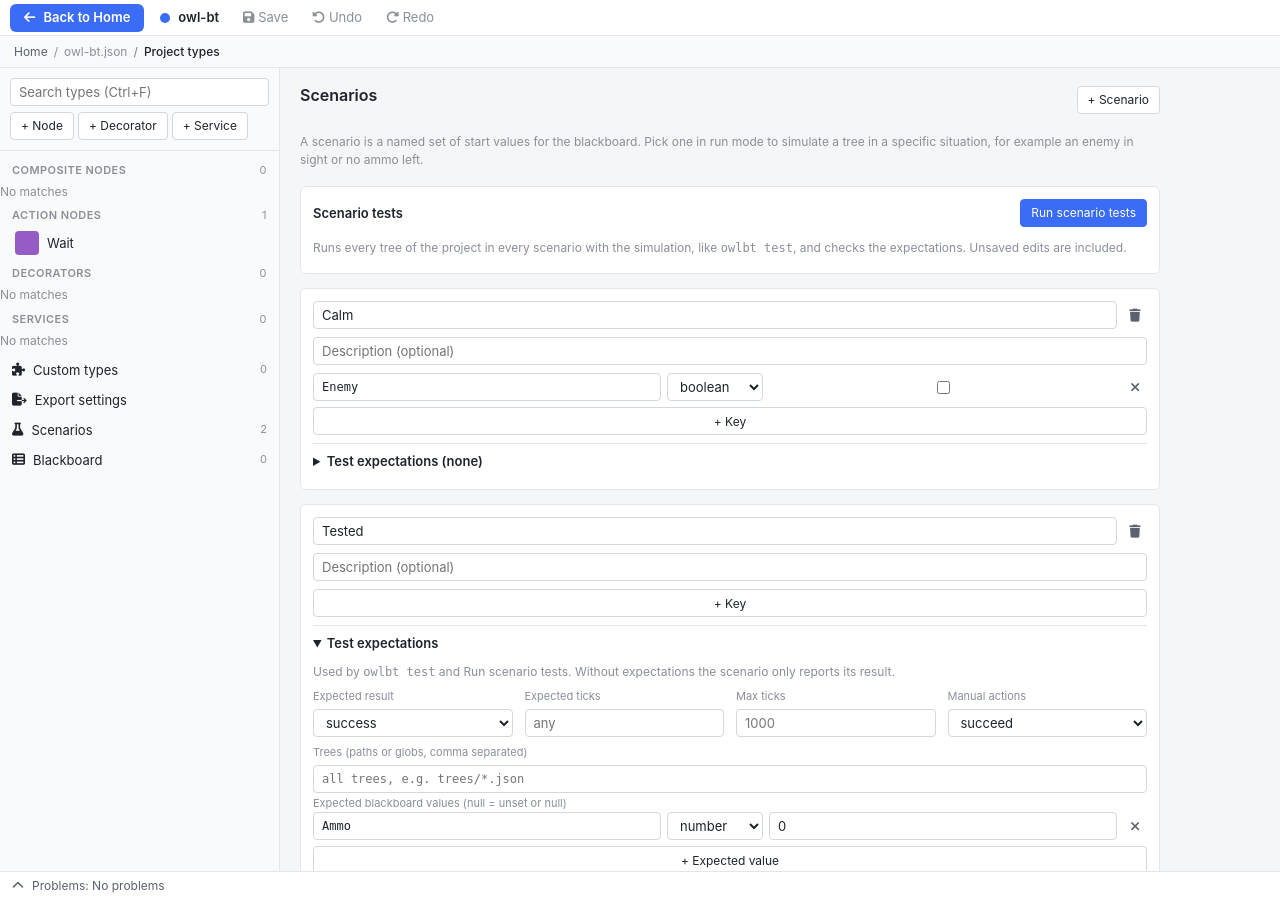
Test: ScenariosView test expectations › runs the scenario tests with the draft and shows the results
Expected: the element named "Project types" is shown, [0, 68, 280, 871]
Step 1. Click the button "Run scenario tests" → (1084, 213), box [1020, 199, 1147, 227]
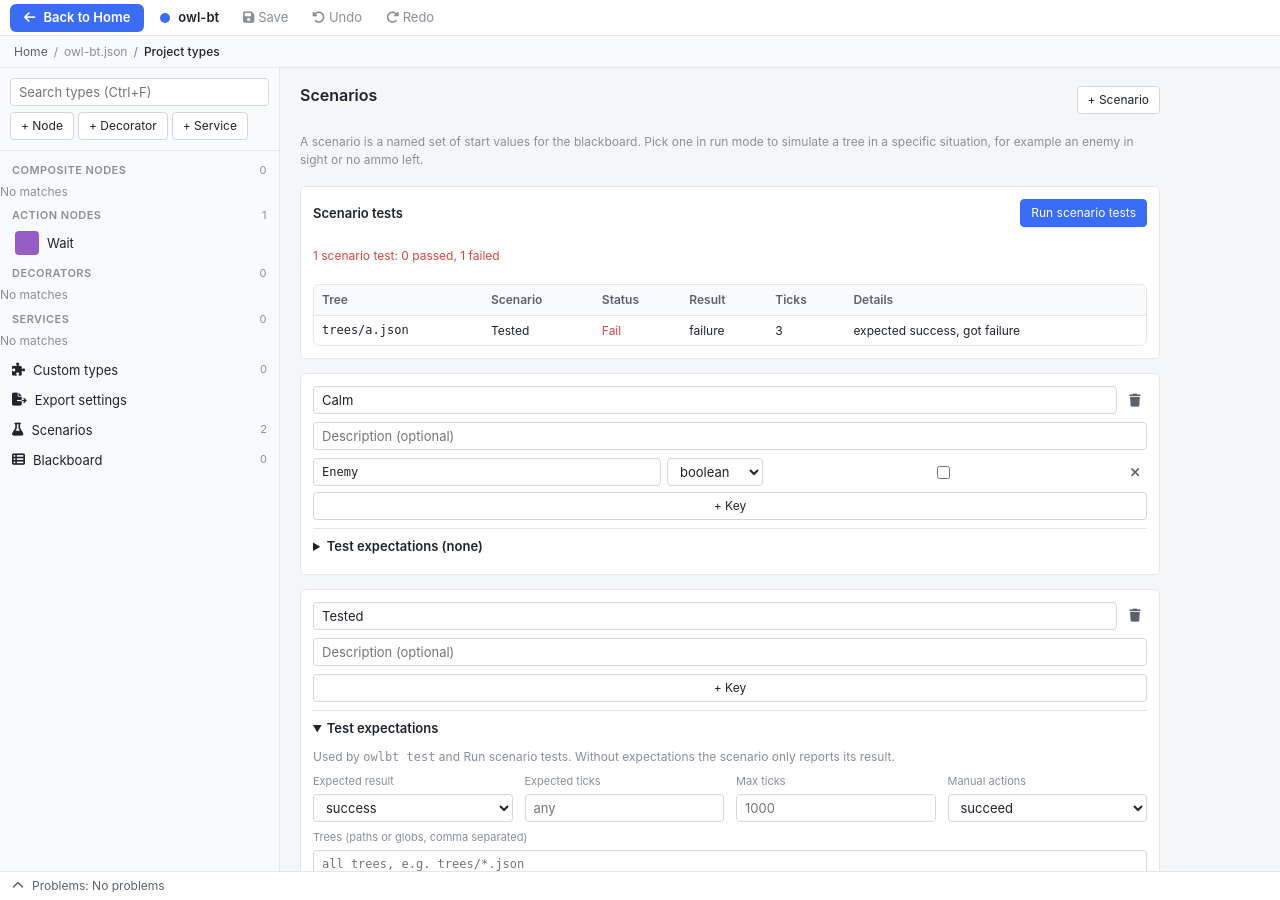
Expected: the text "1 scenario test: 0 passed, 1 failed" is shown, [313, 248, 500, 263]
Expected: the table shows "trees/a.json", [322, 323, 409, 337]
Expected: the table shows "expected success, got failure", [853, 323, 1020, 338]
